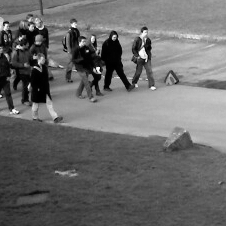person: (30, 53, 63, 121), (103, 29, 133, 92), (73, 36, 95, 102), (132, 27, 155, 89), (65, 18, 87, 82), (1, 45, 21, 114), (15, 38, 34, 105), (90, 33, 105, 96), (32, 33, 49, 63), (1, 20, 13, 56), (35, 19, 50, 40), (14, 31, 25, 53), (25, 21, 37, 36), (17, 17, 27, 32), (24, 12, 34, 22)
